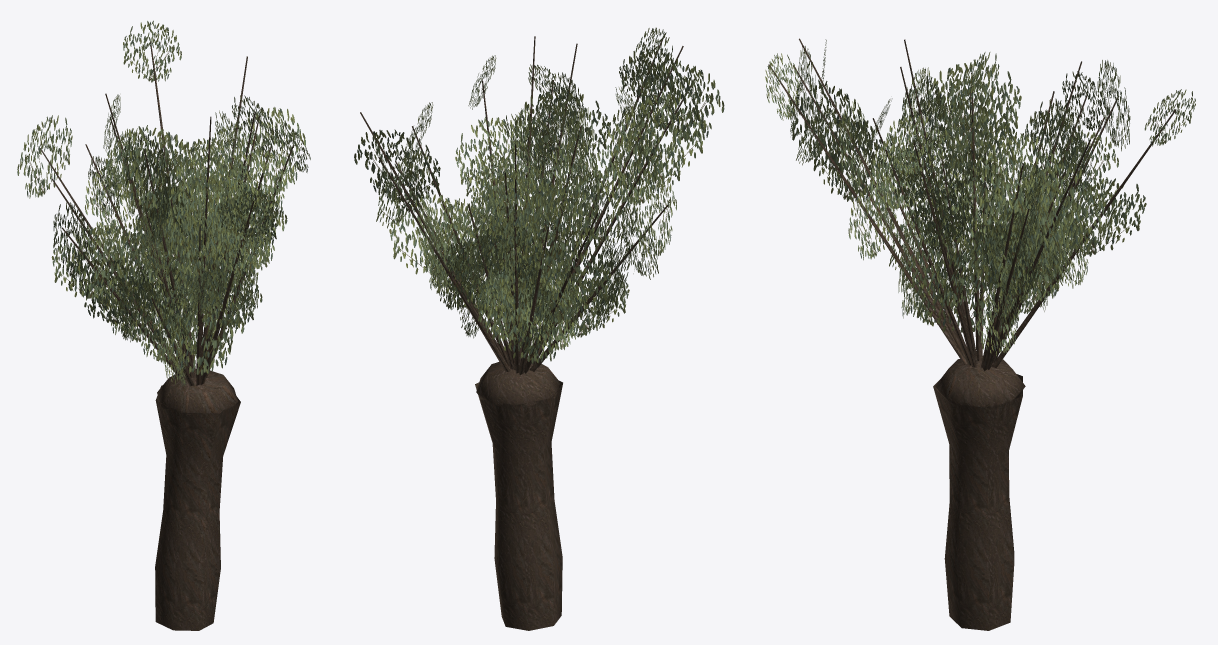
File: tpl_yard_old_meadow_pollard.glb
The picture shows the model from 3 angles, left to right: view 1: azimuth 30°, elevation 25°; view 2: azimuth 150°, elevation 25°; view 3: azimuth 270°, elevation 25°; orthographic projection. The views are drawn at different scales.
Parts seen in each view (by area): view 1: tpl_yard_old_meadow_pollard; view 2: tpl_yard_old_meadow_pollard; view 3: tpl_yard_old_meadow_pollard.
Boxes of the visible parts, x1,y1,x2,y2 form: tpl_yard_old_meadow_pollard: (17,20,310,630); tpl_yard_old_meadow_pollard: (354,27,724,630); tpl_yard_old_meadow_pollard: (765,38,1195,630).
Size of the model in its own units: 3.37 by 6.06 by 4.28.
Materials: 2 (2 with a texture image).
